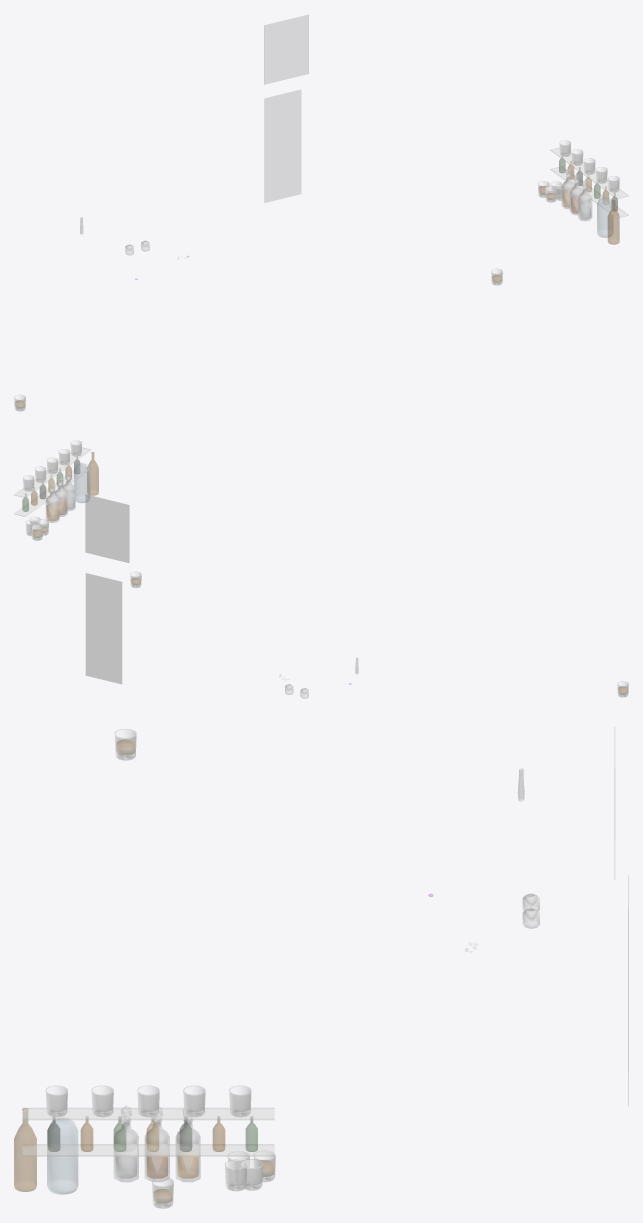
File: railcar-glass.glb
3 views of the same model, one above another, from view 1: azimuth 30°, elevation 25°; view 2: azimuth 150°, elevation 25°; view 3: azimuth 270°, elevation 25° (orthographic). The views are drawn at different scales.
Visible parts, largest first — view 1: trunk door glass, dial glass, soda siphon body, backbar glass shelf 0; view 2: trunk door glass, dial glass, soda siphon body, backbar glass shelf 0, backbar glass shelf 1, whisky bottle, decanter 0; view 3: backbar glass shelf 0, backbar glass shelf 1, soda siphon body, whisky bottle, decanter 0, decanter 2, decanter 1.
Boxes of the visible parts, x1=… form: trunk door glass: x1=264, y1=89, x2=300, y2=202; dial glass: x1=264, y1=14, x2=308, y2=84; soda siphon body: x1=597, y1=197, x2=613, y2=237; backbar glass shelf 0: x1=550, y1=166, x2=628, y2=218; trunk door glass: x1=86, y1=573, x2=121, y2=684; dial glass: x1=85, y1=494, x2=129, y2=562; soda siphon body: x1=74, y1=463, x2=89, y2=502; backbar glass shelf 0: x1=14, y1=466, x2=90, y2=516; backbar glass shelf 1: x1=14, y1=447, x2=90, y2=497; whisky bottle: x1=87, y1=452, x2=98, y2=495; decanter 0: x1=46, y1=489, x2=59, y2=522; backbar glass shelf 0: x1=23, y1=1144, x2=274, y2=1156; backbar glass shelf 1: x1=23, y1=1108, x2=274, y2=1119; soda siphon body: x1=47, y1=1117, x2=77, y2=1194; whisky bottle: x1=14, y1=1108, x2=36, y2=1191; decanter 0: x1=176, y1=1118, x2=200, y2=1181; decanter 2: x1=114, y1=1118, x2=138, y2=1181; decanter 1: x1=145, y1=1118, x2=169, y2=1181.
Bounding box in the file's own units: 44.6 × 14.38 × 21.46.
